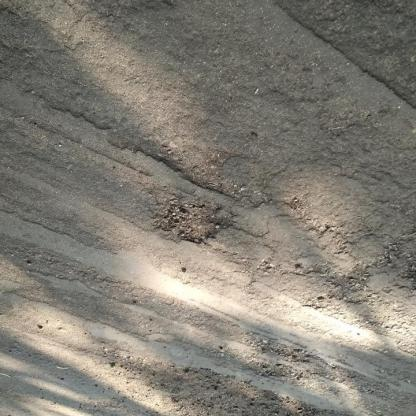pothole: (153, 202, 235, 248)
